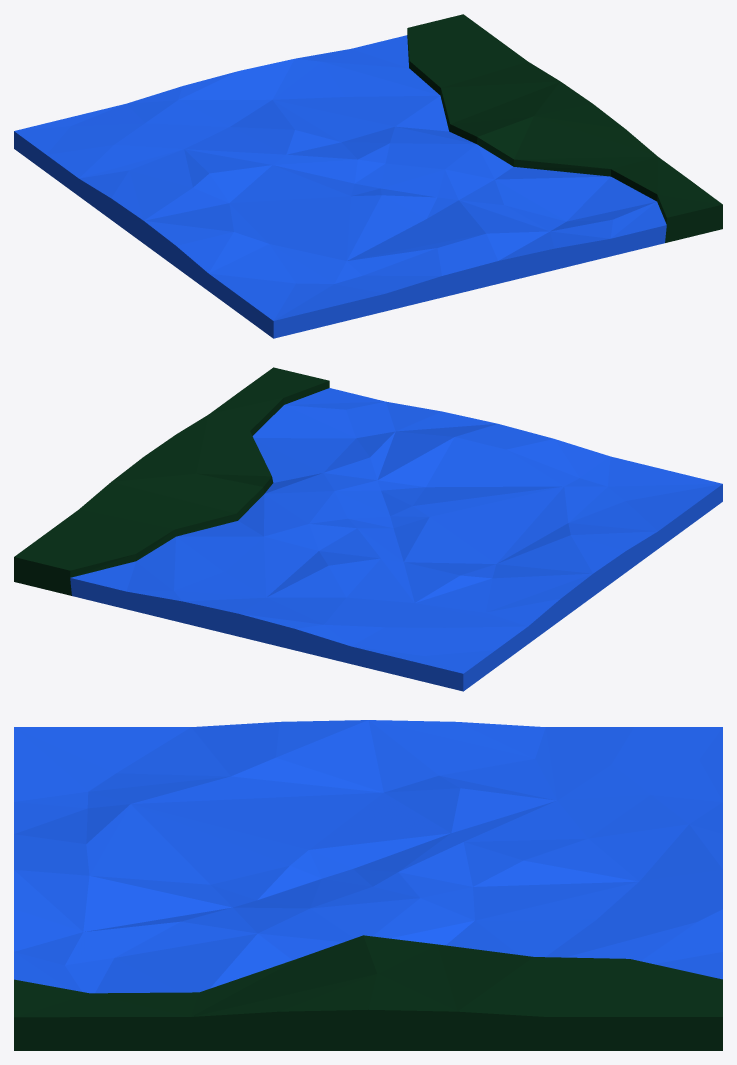
Rendered from Water_green_2.FBX.
The picture shows the model from 3 angles, top to bottom: view 1: azimuth 30°, elevation 25°; view 2: azimuth 150°, elevation 25°; view 3: azimuth 270°, elevation 25°; orthographic projection. The views are drawn at different scales.
Visible parts, largest first — view 1: Road_green_2; view 2: Road_green_2; view 3: Road_green_2.
Part boxes in pixels (<box>): Road_green_2: <box>14,14,722,338</box>; Road_green_2: <box>14,367,722,691</box>; Road_green_2: <box>14,720,722,1050</box>.
Bounding box in the file's own units: 1.5 × 0.0961 × 1.5.
1 material, 1 textured.
